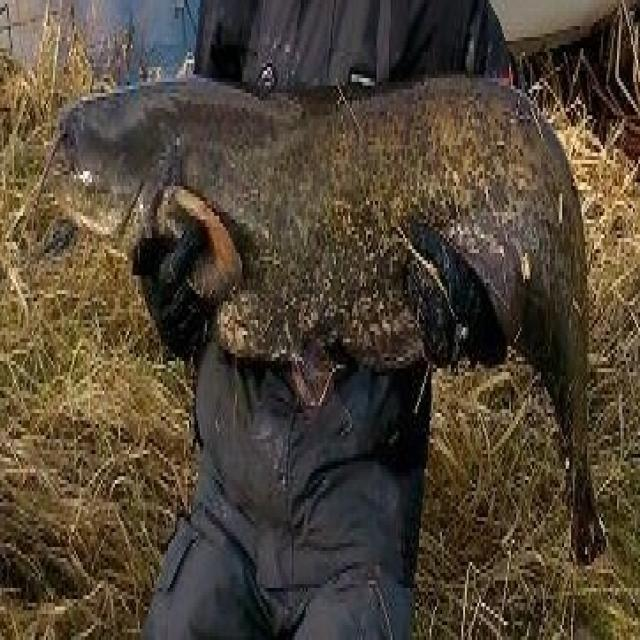Catfish: (27, 41, 607, 608)
